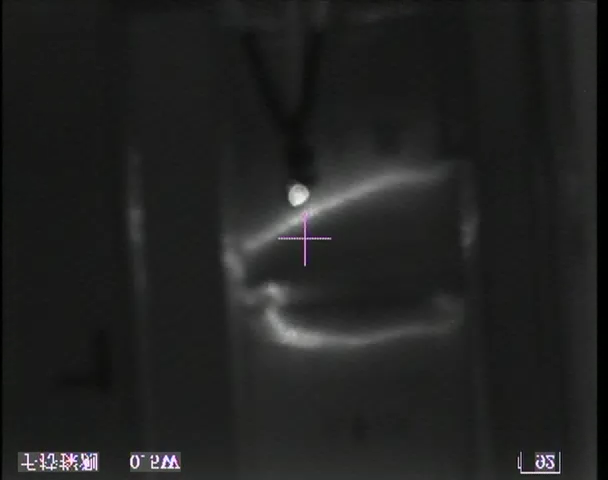my: (286, 181, 310, 208)
